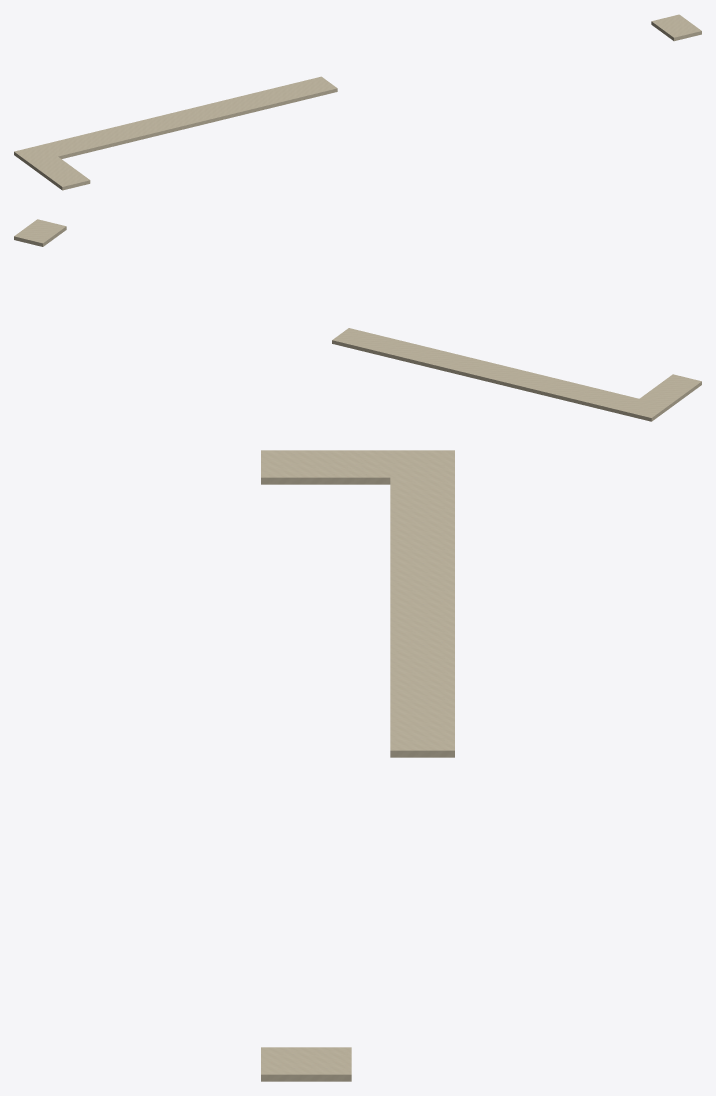
Rendered from STAFFLINK_D09_P69__floor.glb.
The picture shows the model from 3 angles, top to bottom: view 1: azimuth 30°, elevation 25°; view 2: azimuth 150°, elevation 25°; view 3: azimuth 270°, elevation 25°; orthographic projection. The views are drawn at different scales.
Visible parts, largest first — view 1: STAFFLINK_D09_P69__floor__warm_stone; view 2: STAFFLINK_D09_P69__floor__warm_stone; view 3: STAFFLINK_D09_P69__floor__warm_stone.
Part boxes in pixels (x1=…): STAFFLINK_D09_P69__floor__warm_stone: x1=14, y1=14, x2=701, y2=190; STAFFLINK_D09_P69__floor__warm_stone: x1=14, y1=219, x2=701, y2=421; STAFFLINK_D09_P69__floor__warm_stone: x1=261, y1=450, x2=454, y2=1081.
Bounding box in the file's own units: 45.75 × 0.24 × 6.
1 material, 1 textured.
